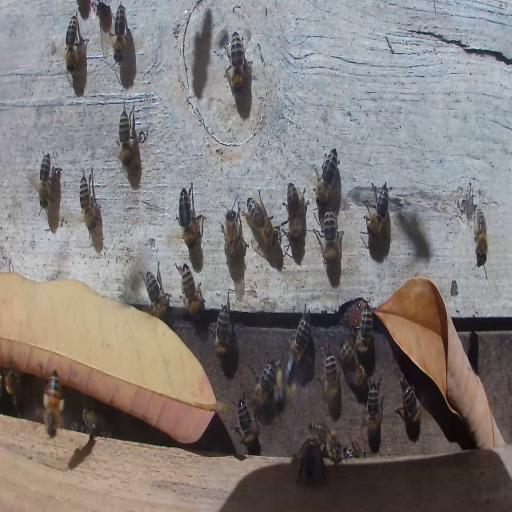nonpollenbee: (176, 182, 207, 246), (284, 180, 308, 252), (246, 193, 276, 250), (140, 262, 170, 317), (177, 262, 204, 318), (313, 148, 339, 206), (79, 165, 100, 236), (398, 377, 422, 439), (288, 305, 312, 365), (365, 180, 391, 235), (208, 294, 232, 352), (320, 207, 342, 270), (223, 196, 243, 262), (236, 398, 260, 453), (296, 436, 324, 481), (366, 378, 383, 452), (117, 103, 136, 169), (251, 356, 275, 408), (339, 340, 363, 390), (356, 299, 374, 362), (324, 350, 340, 416), (228, 30, 244, 92), (308, 424, 340, 453), (112, 3, 127, 64), (38, 150, 52, 210), (474, 210, 488, 268), (65, 14, 77, 74), (95, 3, 113, 34), (5, 368, 21, 402), (82, 408, 100, 438), (344, 438, 362, 458)
pollenbee: (274, 348, 299, 412), (42, 368, 64, 438)
